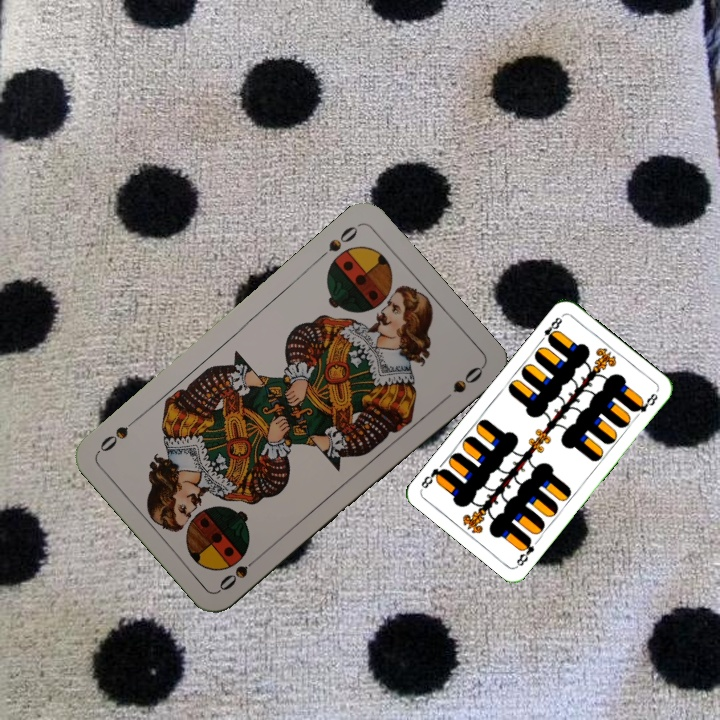E8: (536, 313, 565, 346), (512, 534, 537, 569)
SO: (214, 550, 264, 594), (313, 220, 362, 263)
